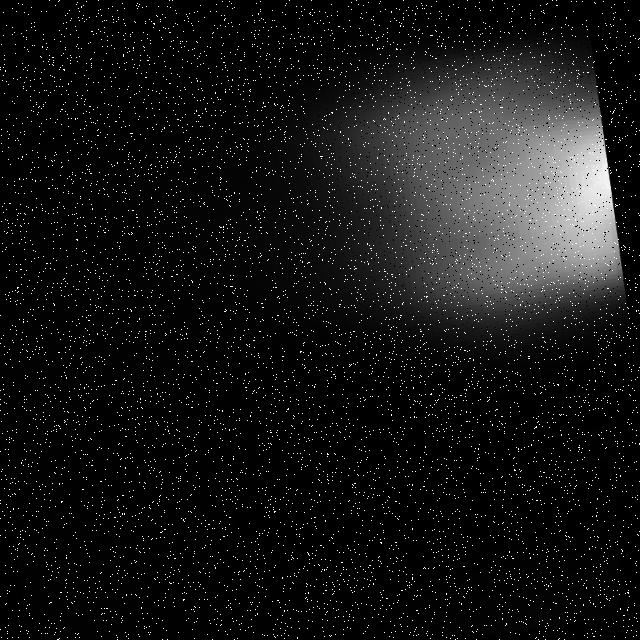person: (168, 7, 638, 372)
